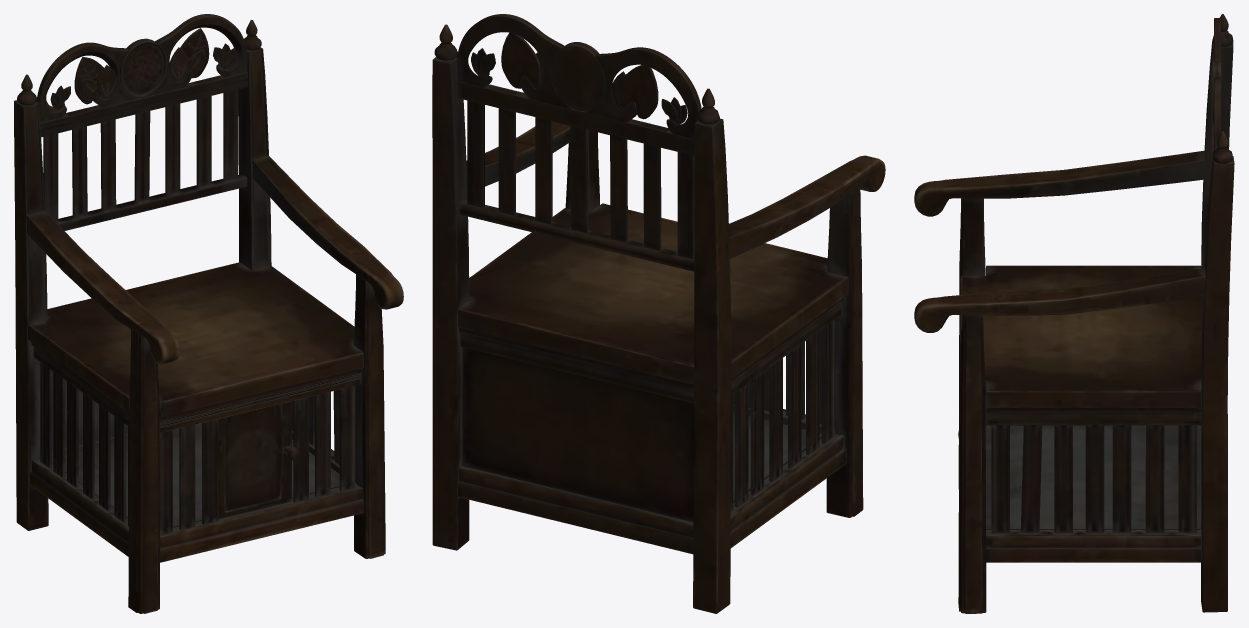
File: dining_chair.glb
3 renders of one model, left to right at view 1: azimuth 30°, elevation 25°; view 2: azimuth 150°, elevation 25°; view 3: azimuth 270°, elevation 25°, orthographic. The views are drawn at different scales.
Parts seen in each view (by area): view 1: gallinera_chair; view 2: gallinera_chair; view 3: gallinera_chair.
Part boxes in pixels (box(x1,y1,x2,y2)): gallinera_chair: box(14, 14, 403, 613); gallinera_chair: box(432, 14, 885, 613); gallinera_chair: box(914, 14, 1234, 613).
Bounding box in the file's own units: 0.5808 × 1.03 × 0.6039.
Materials: 1 (1 with a texture image).
